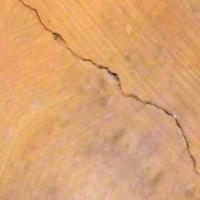crack: (12, 0, 199, 188)
